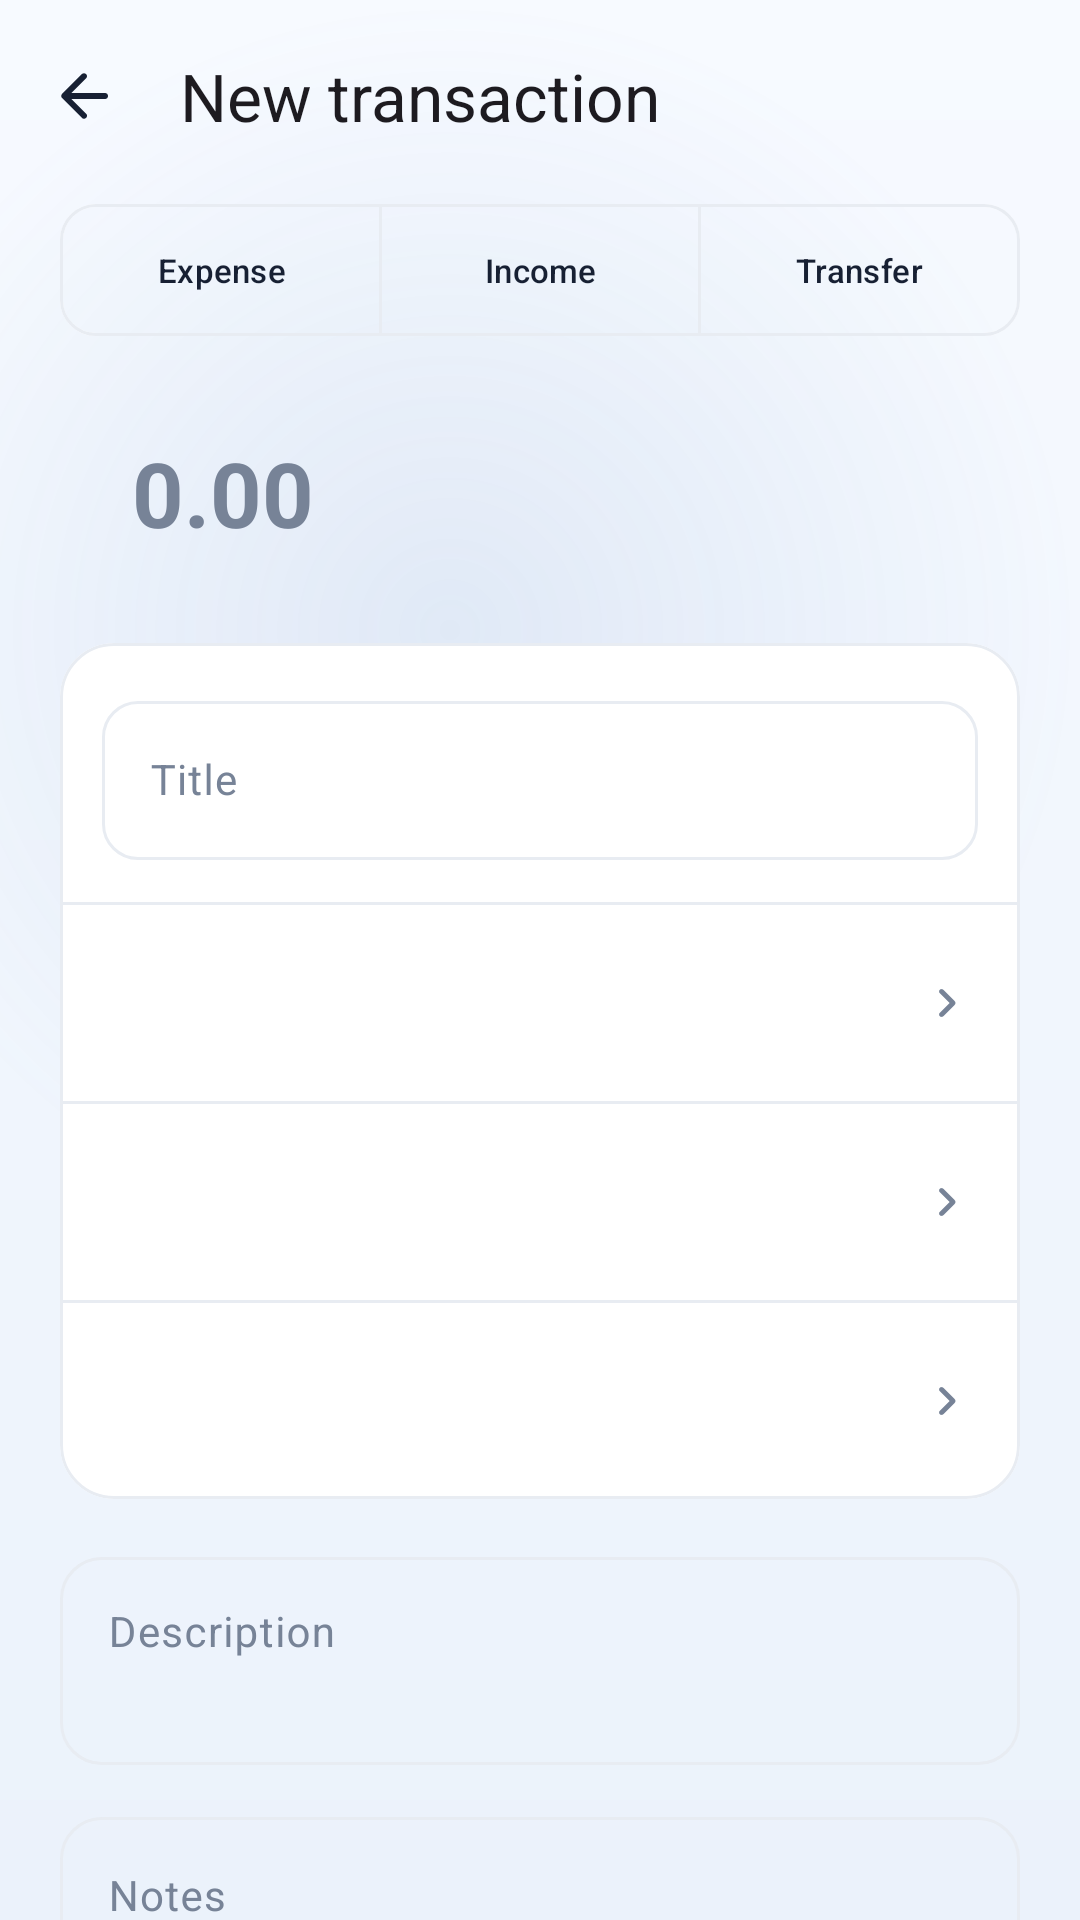

Screen size 1080x1920. Icon name, then its box in pixels as (x1=x1, y1=y1, x2=x2, y2=y2):
chevron right: (x1=939, y1=989, x2=956, y2=1017), (x1=939, y1=1188, x2=956, y2=1216), (x1=939, y1=1387, x2=956, y2=1415)
